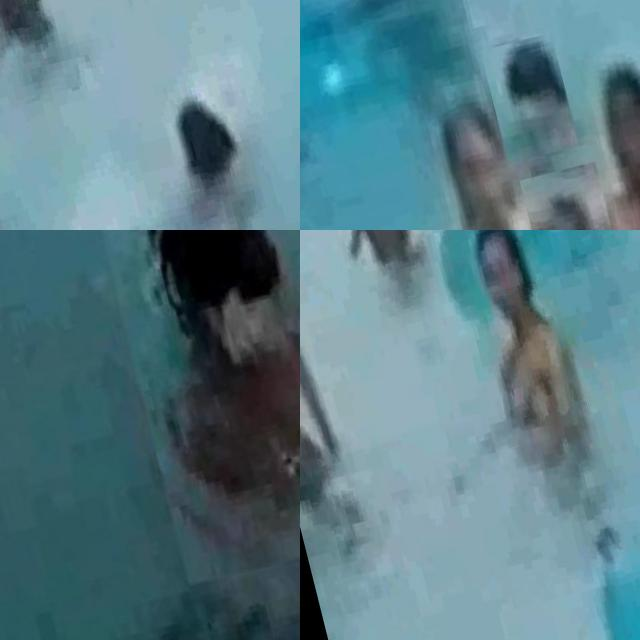drowning: (84, 230, 300, 585), (71, 27, 300, 230), (480, 32, 580, 164)
swimming: (446, 230, 615, 478), (300, 230, 376, 577), (418, 89, 530, 230), (577, 33, 640, 230), (330, 230, 476, 297), (518, 160, 618, 230)
